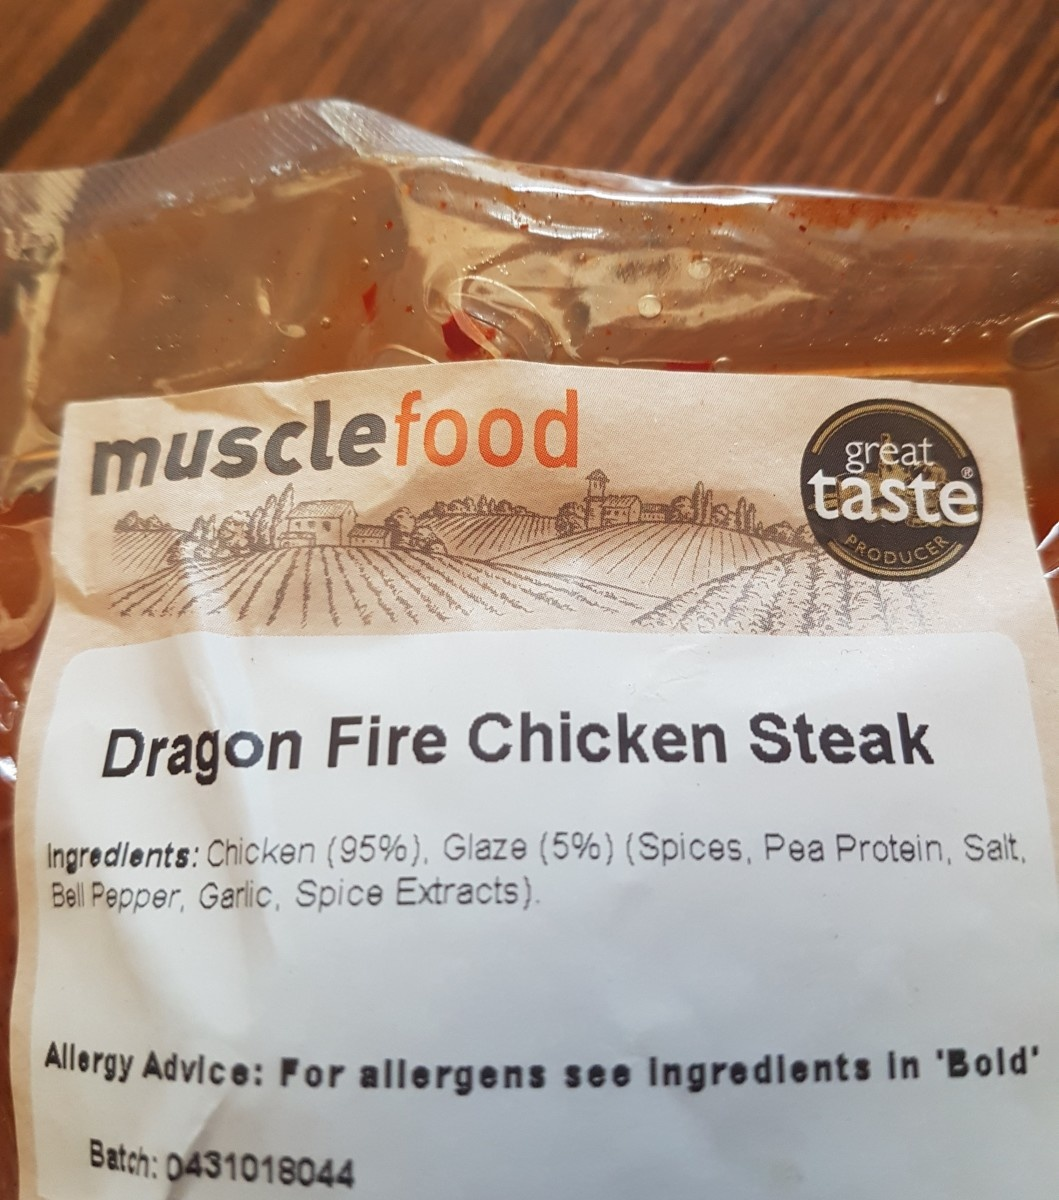ingredients: (10, 819, 1052, 974)
